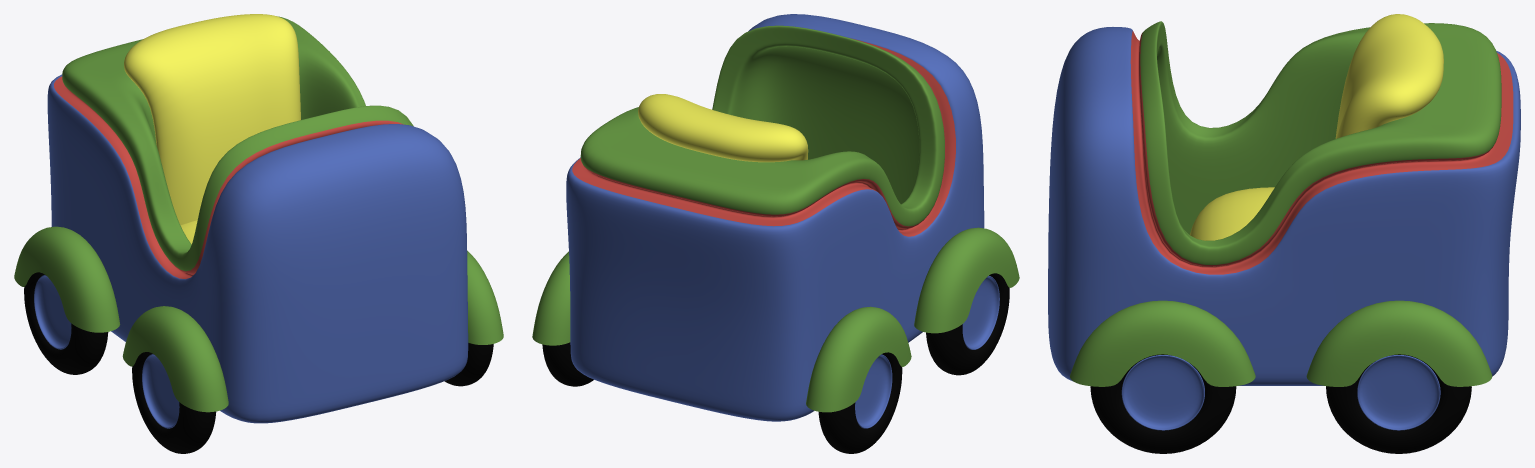
Rendered from truckblue.fbx.
The picture shows the model from 3 angles, left to right: view 1: azimuth 30°, elevation 25°; view 2: azimuth 150°, elevation 25°; view 3: azimuth 270°, elevation 25°; orthographic projection. The views are drawn at different scales.
Parts seen in each view (by area): view 1: Body, Whells, Back; view 2: Body, Whells, Back; view 3: Body, Whells, Back, Seat.
Part boxes in pixels (box(x1,y1,x2,y2)): Body: box(47, 16, 468, 423); Whells: box(14, 226, 503, 453); Back: box(124, 14, 300, 225); Body: box(566, 14, 984, 421); Whells: box(532, 227, 1019, 453); Back: box(638, 94, 808, 162); Body: box(1048, 21, 1520, 385); Whells: box(1070, 300, 1492, 453); Back: box(1335, 14, 1443, 138); Seat: box(1190, 187, 1274, 240).
Size of the model in its own units: 68.52 by 62.53 by 80.8.
